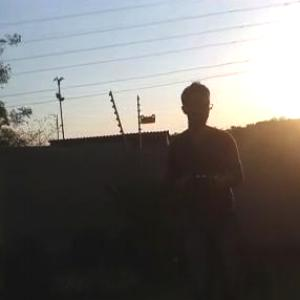follow: (166, 75, 251, 299)
